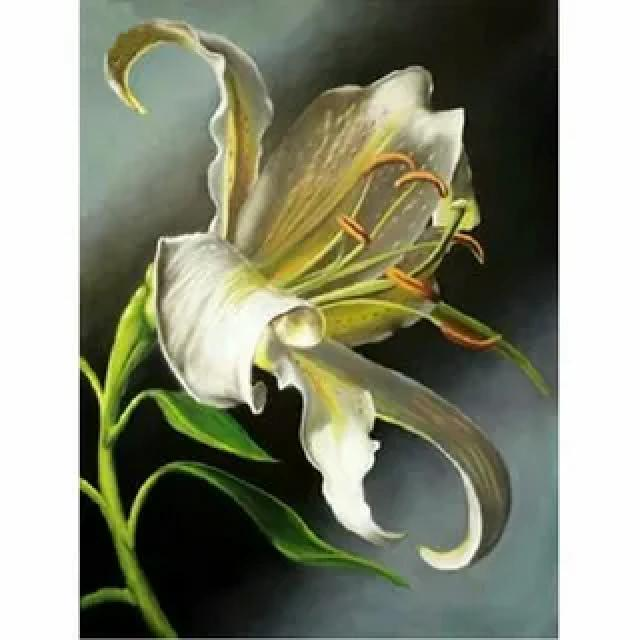lily: (104, 9, 547, 583)
